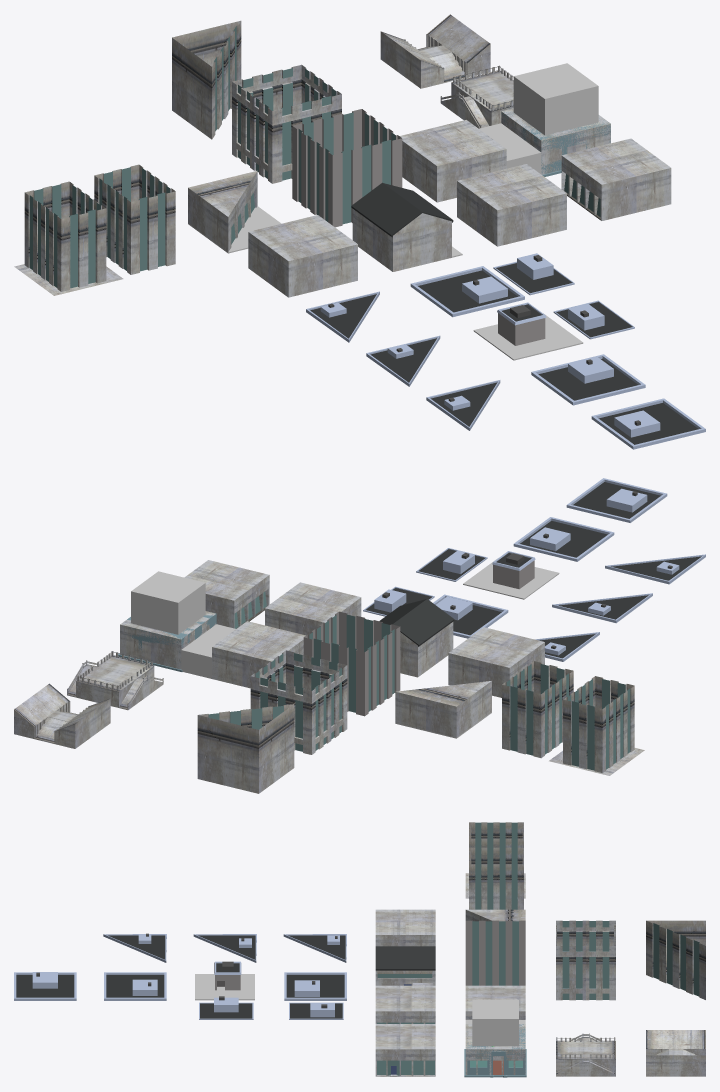
Rendered from houses12.fbx.
3 views of the same model, one above another, from view 1: azimuth 30°, elevation 25°; view 2: azimuth 150°, elevation 25°; view 3: azimuth 270°, elevation 25° (orthographic). The views are drawn at different scales.
Visible parts, largest first — view 1: S_up01, s_up11, S_up02, s_up12, X_House04, S_Alap04, S_Alap01, S_Alap02, L_Up01, S_Alap03, X_House02, Plane.002 (+14 smaller); view 2: L_Up01, S_up02, S_up01, s_up11, s_up12, L_Alap01, S_Alap04, X_House02, S_Alap03, Plane.002, X_House04, X_House01 (+14 smaller); view 3: S_up02, L_Up01, S_up01, s_up12, X_House04, X_House02, S_Alap02, X_House01, S_Alap01, S_Alap04, Plane.002, T_Alap01 (+13 smaller).
Boxes of the visible parts, <box> form: S_up01: <box>292,109,402,227</box>; s_up11: <box>14,181,123,295</box>; S_up02: <box>232,64,341,183</box>; s_up12: <box>94,164,175,274</box>; X_House04: <box>561,138,671,220</box>; S_Alap04: <box>248,215,357,297</box>; S_Alap01: <box>457,164,566,246</box>; S_Alap02: <box>351,182,462,271</box>; L_Up01: <box>172,20,241,139</box>; S_Alap03: <box>399,120,506,202</box>; X_House02: <box>380,14,490,88</box>; Plane.002: <box>513,63,598,135</box>; L_Up01: <box>197,704,294,793</box>; S_up02: <box>250,650,347,754</box>; S_up01: <box>303,611,400,716</box>; s_up11: <box>549,676,644,775</box>; s_up12: <box>502,661,573,758</box>; L_Alap01: <box>395,681,491,738</box>; S_Alap04: <box>448,627,544,697</box>; X_House02: <box>14,683,110,748</box>; S_Alap03: <box>212,621,305,688</box>; Plane.002: <box>131,571,205,634</box>; X_House04: <box>184,560,269,628</box>; X_House01: <box>67,651,163,710</box>; S_up02: <box>556,920,615,1000</box>; L_Up01: <box>646,920,705,999</box>; S_up01: <box>465,920,525,985</box>; s_up12: <box>469,847,523,909</box>; X_House04: <box>375,1024,435,1076</box>; X_House02: <box>646,1030,705,1076</box>; S_Alap02: <box>375,946,435,985</box>; X_House01: <box>556,1033,615,1076</box>; S_Alap01: <box>375,985,435,1023</box>; S_Alap04: <box>375,909,435,946</box>; Plane.002: <box>472,999,518,1046</box>; T_Alap01: <box>195,961,254,1000</box>.
Size of the model in its own units: 1608 by 208 by 2304.
